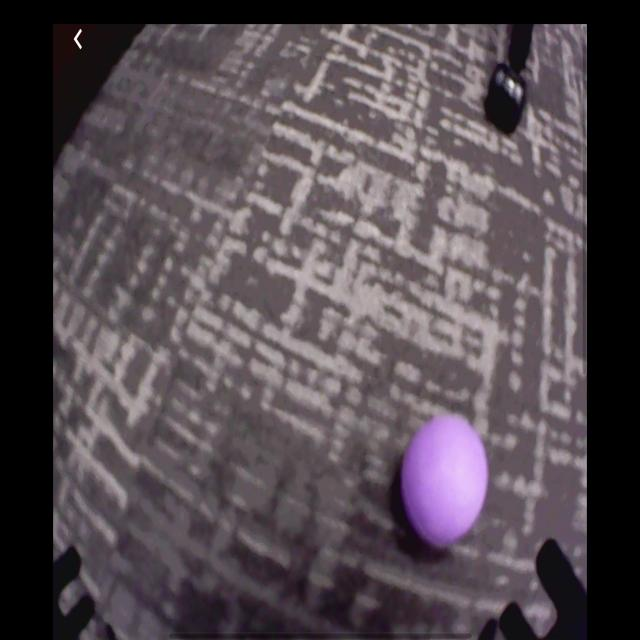ball: (401, 413, 490, 549)
